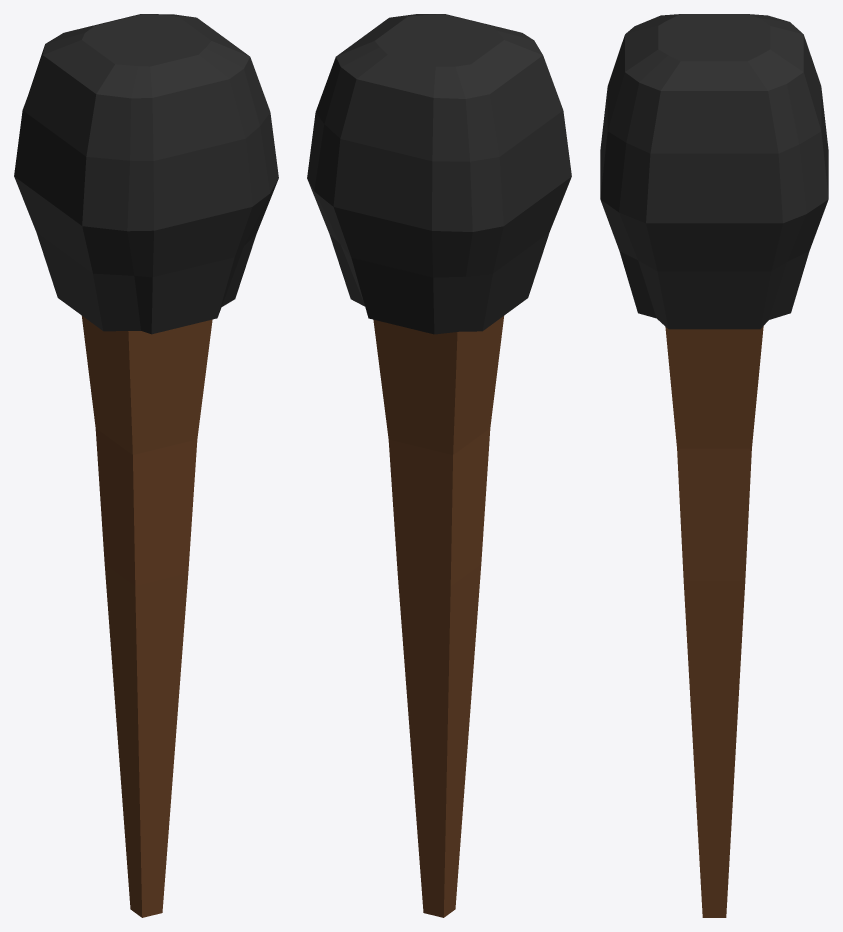
The model's file is torch_001.fbx.
The picture shows the model from 3 angles, left to right: view 1: azimuth 30°, elevation 25°; view 2: azimuth 150°, elevation 25°; view 3: azimuth 270°, elevation 25°; orthographic projection.
Parts seen in each view (by area): view 1: Cube; view 2: Cube; view 3: Cube.
Part boxes in pixels (x1,y1,x2,y2): Cube: (14, 14, 278, 917); Cube: (307, 14, 571, 917); Cube: (600, 14, 828, 917).
Bounding box in the file's own units: 20.23 × 85.58 × 20.23.
